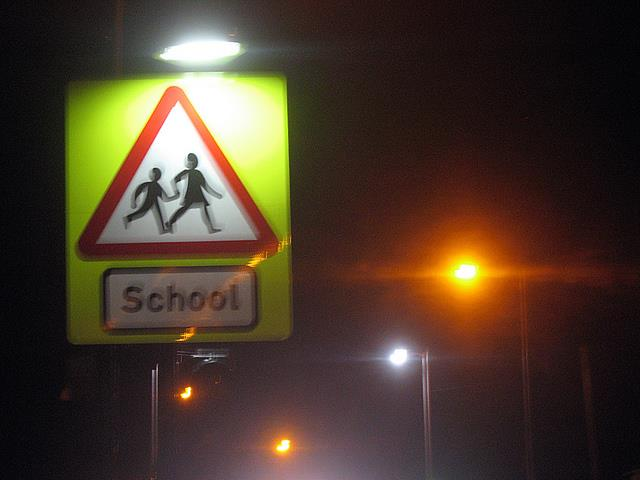road_sign_school: (70, 78, 285, 341)
